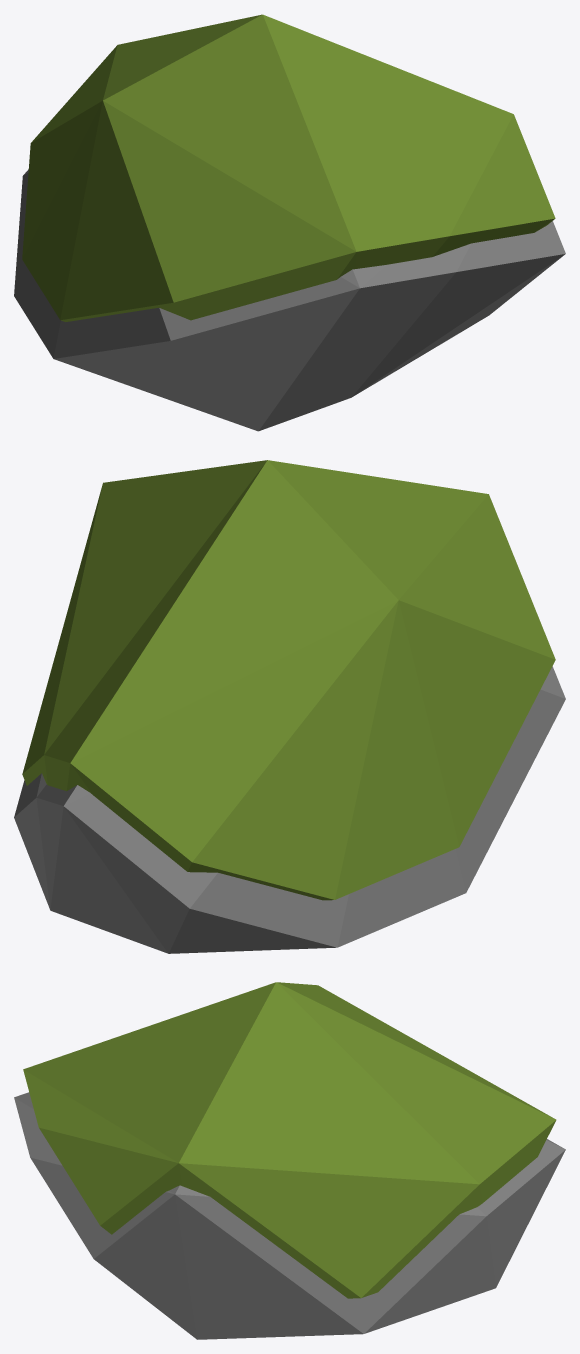
File: Stone_2_moss_mat.fbx
The picture shows the model from 3 angles, top to bottom: view 1: azimuth 30°, elevation 25°; view 2: azimuth 150°, elevation 25°; view 3: azimuth 270°, elevation 25°; orthographic projection. The views are drawn at different scales.
Visible parts, largest first — view 1: Stone_2_moss_mat; view 2: Stone_2_moss_mat; view 3: Stone_2_moss_mat.
Boxes of the visible parts, box(x1,y1,x2,y2) form: Stone_2_moss_mat: box(14, 14, 565, 431); Stone_2_moss_mat: box(14, 460, 565, 953); Stone_2_moss_mat: box(14, 982, 565, 1339).
Bounding box in the file's own units: 109 × 82.92 × 149.
